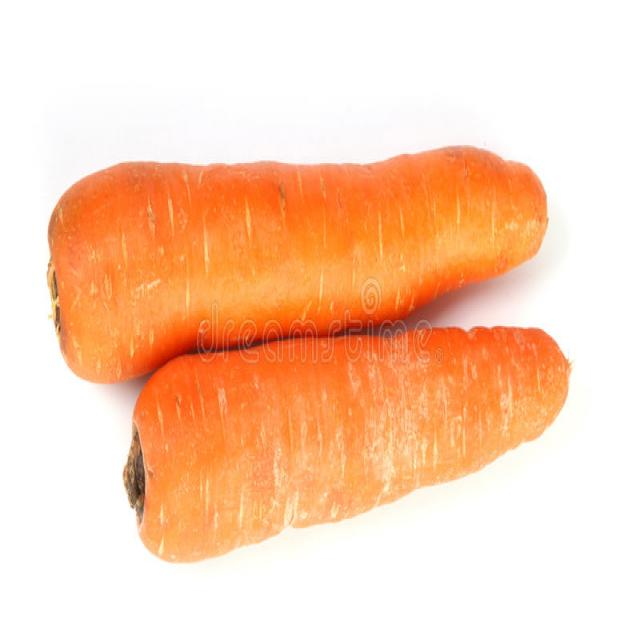Carrot: (49, 139, 552, 385), (127, 336, 578, 556)
